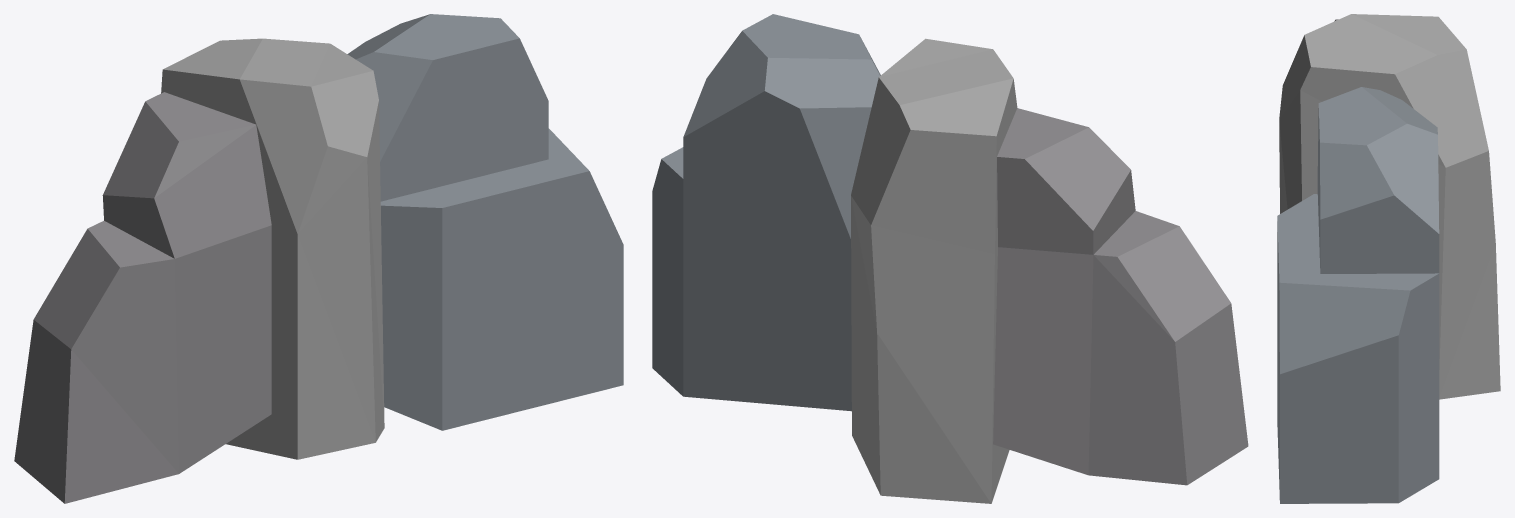
File: Rock_Wall_01.fbx
3 renders of one model, left to right at view 1: azimuth 30°, elevation 25°; view 2: azimuth 150°, elevation 25°; view 3: azimuth 270°, elevation 25°, orthographic. The views are drawn at different scales.
Visible parts, largest first — view 1: Rock_Wall_01; view 2: Rock_Wall_01; view 3: Rock_Wall_01.
Boxes of the visible parts, <box> form: Rock_Wall_01: <box>14,14,623,503</box>; Rock_Wall_01: <box>652,14,1248,503</box>; Rock_Wall_01: <box>1277,14,1500,503</box>.
Bounding box in the file's own units: 5.21 × 3.43 × 1.97.
